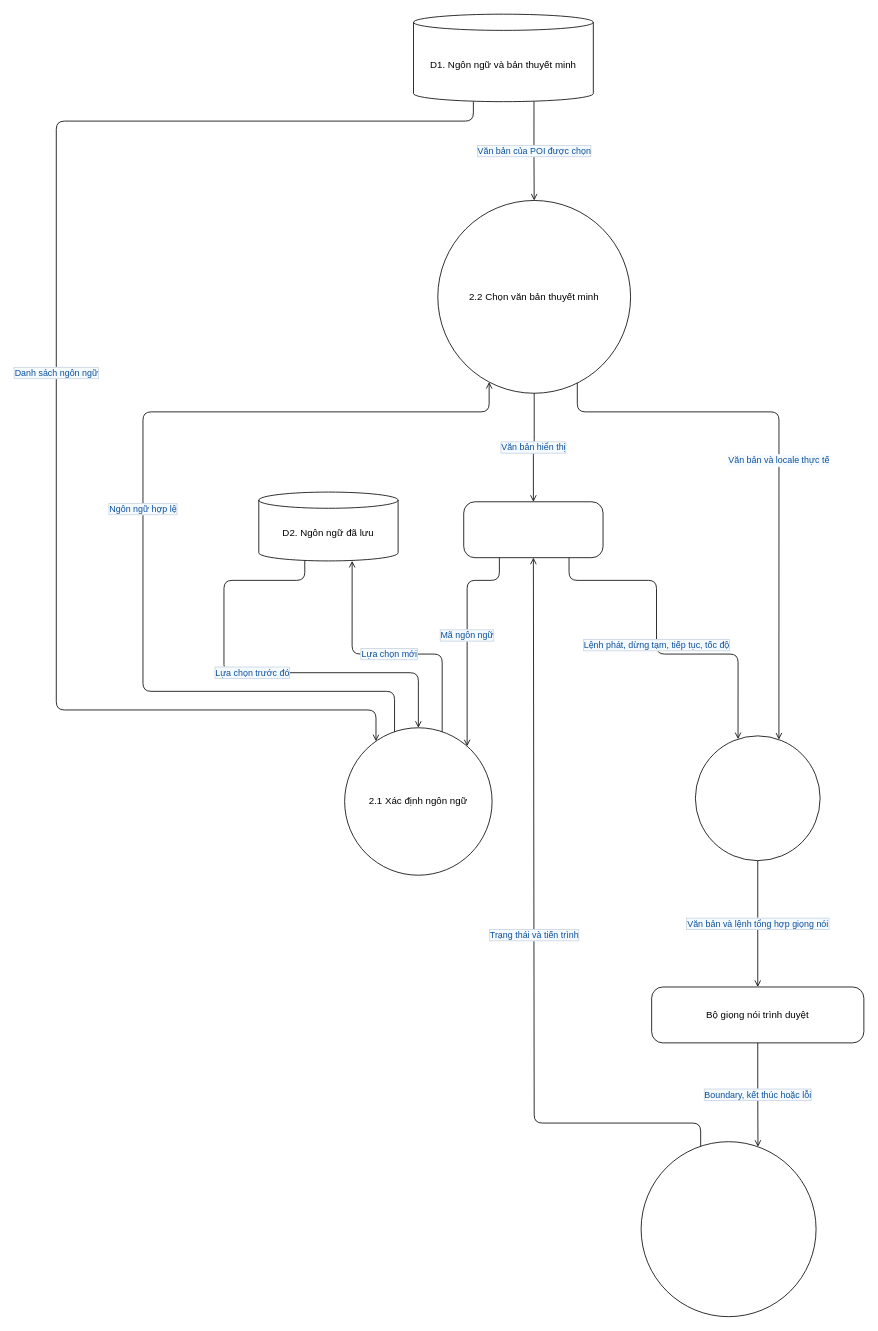
Image size: 878x1331. Some labels were removed from this diagram. Here are the shapes that lost their labels. From the top down, the centre of each, then its label:
At point 533,529: "Người dùng".
At point 757,798: "2.3 Điều khiển đọc".
At point 728,1229: "2.4 Cập nhật trạng thái đọc".
